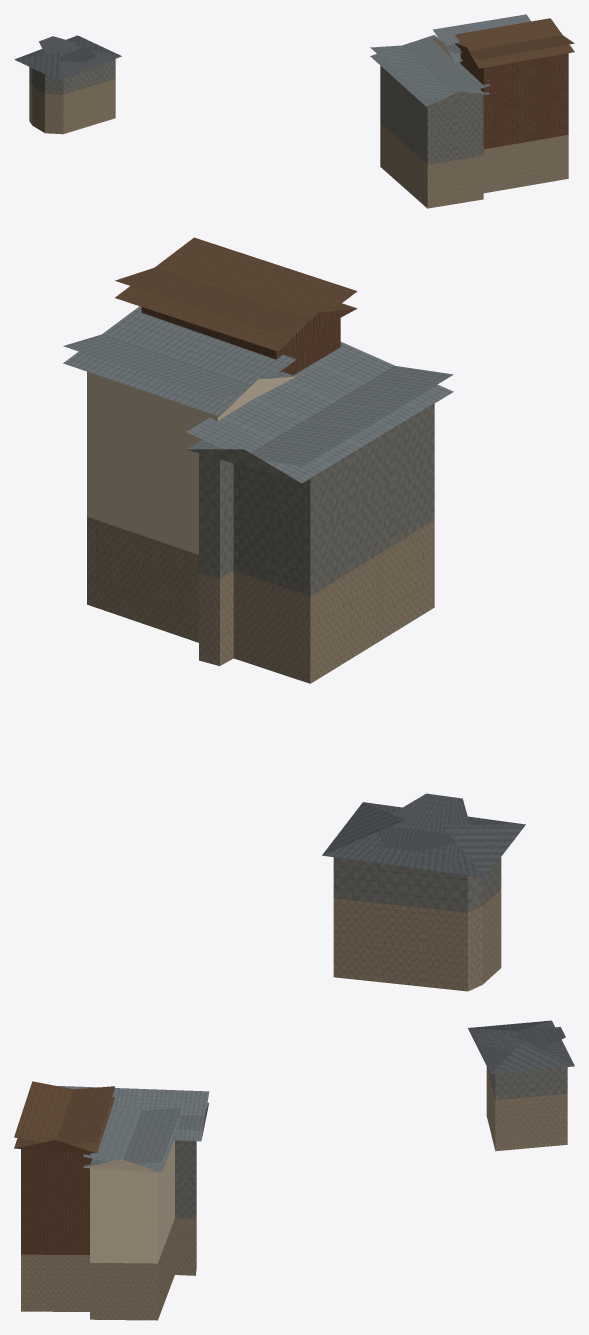
The model's file is bld_c9_26_405.gltf.
3 views of the same model, one above another, from view 1: azimuth 30°, elevation 25°; view 2: azimuth 150°, elevation 25°; view 3: azimuth 270°, elevation 25° (orthographic). The views are drawn at different scales.
Parts seen in each view (by area): view 1: bld_c9_26_405; view 2: bld_c9_26_405; view 3: bld_c9_26_405.
Part boxes in pixels (x1,y1,x2,y2): bld_c9_26_405: (14, 14, 574, 208); bld_c9_26_405: (63, 237, 525, 991); bld_c9_26_405: (14, 1020, 574, 1320).
Size of the model in its own units: 43.87 by 16.7 by 45.52.
10 materials, 10 textured.
